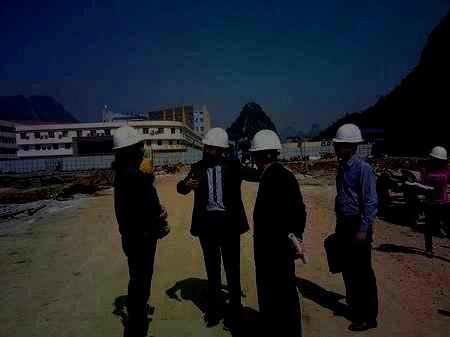helmet: (112, 126, 146, 167), (248, 129, 282, 167), (332, 123, 363, 159), (200, 126, 229, 162), (429, 146, 447, 167)
